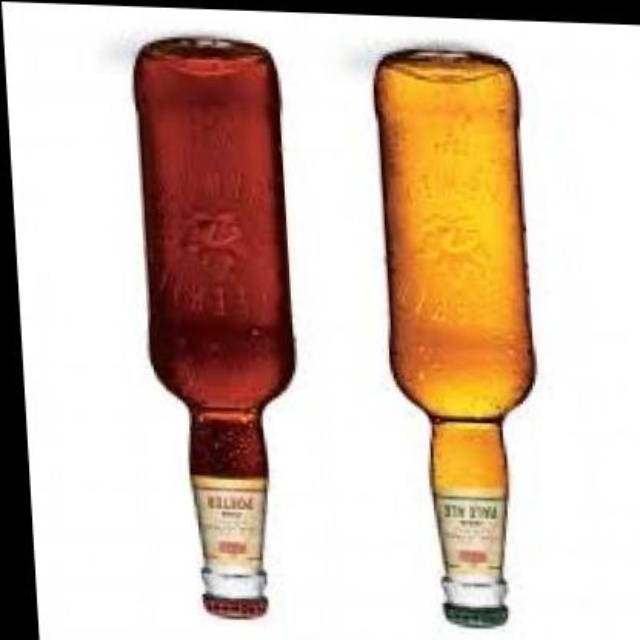trash: (134, 38, 292, 617), (375, 51, 534, 626)
